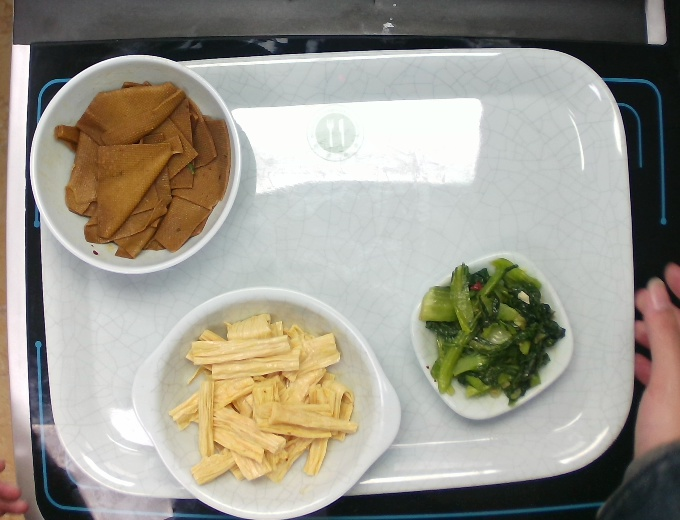JYsf-Fan_Wan: (27, 53, 244, 277)
JYsf-Shuang_Er_Wan: (129, 283, 403, 520)
JYsf-Si_Fang_Die: (407, 249, 576, 422)
